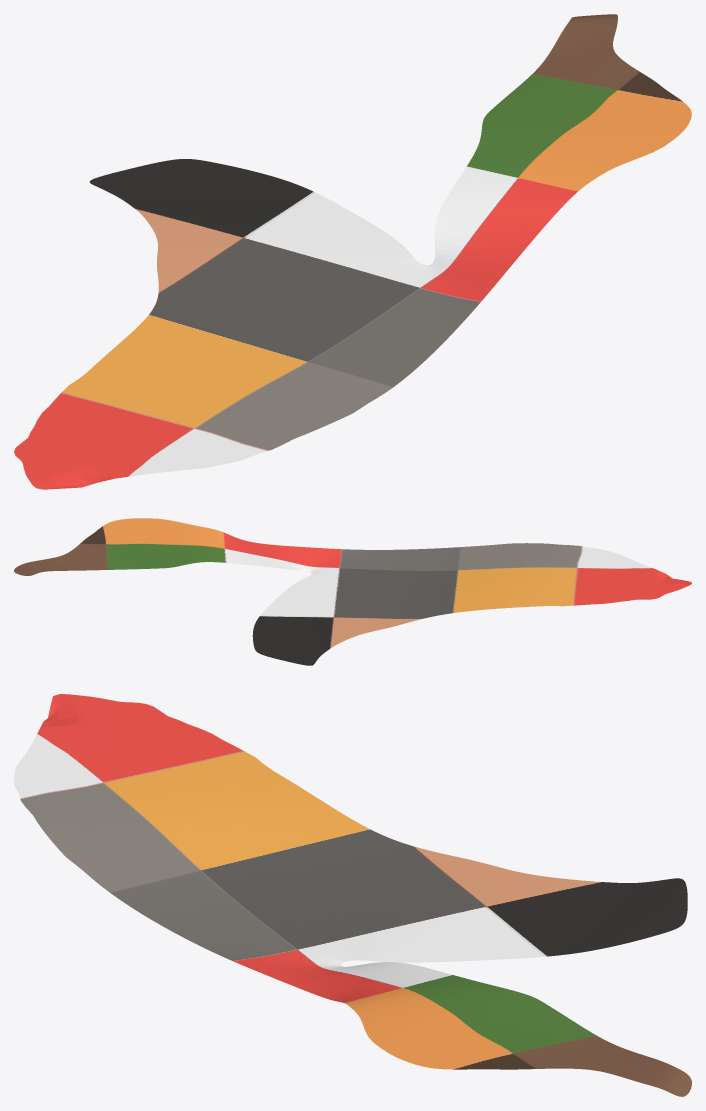
File: lvl2grassupperpassage.fbx
The picture shows the model from 3 angles, top to bottom: view 1: azimuth 30°, elevation 25°; view 2: azimuth 150°, elevation 25°; view 3: azimuth 270°, elevation 25°; orthographic projection. The views are drawn at different scales.
Visible parts, largest first — view 1: upperpassagegrass; view 2: upperpassagegrass; view 3: upperpassagegrass.
Part boxes in pixels (<box>): upperpassagegrass: <box>14,14,691,489</box>; upperpassagegrass: <box>14,518,691,665</box>; upperpassagegrass: <box>14,694,691,1096</box>.
Bounding box in the file's own units: 72.52 × 4.01 × 47.62.
